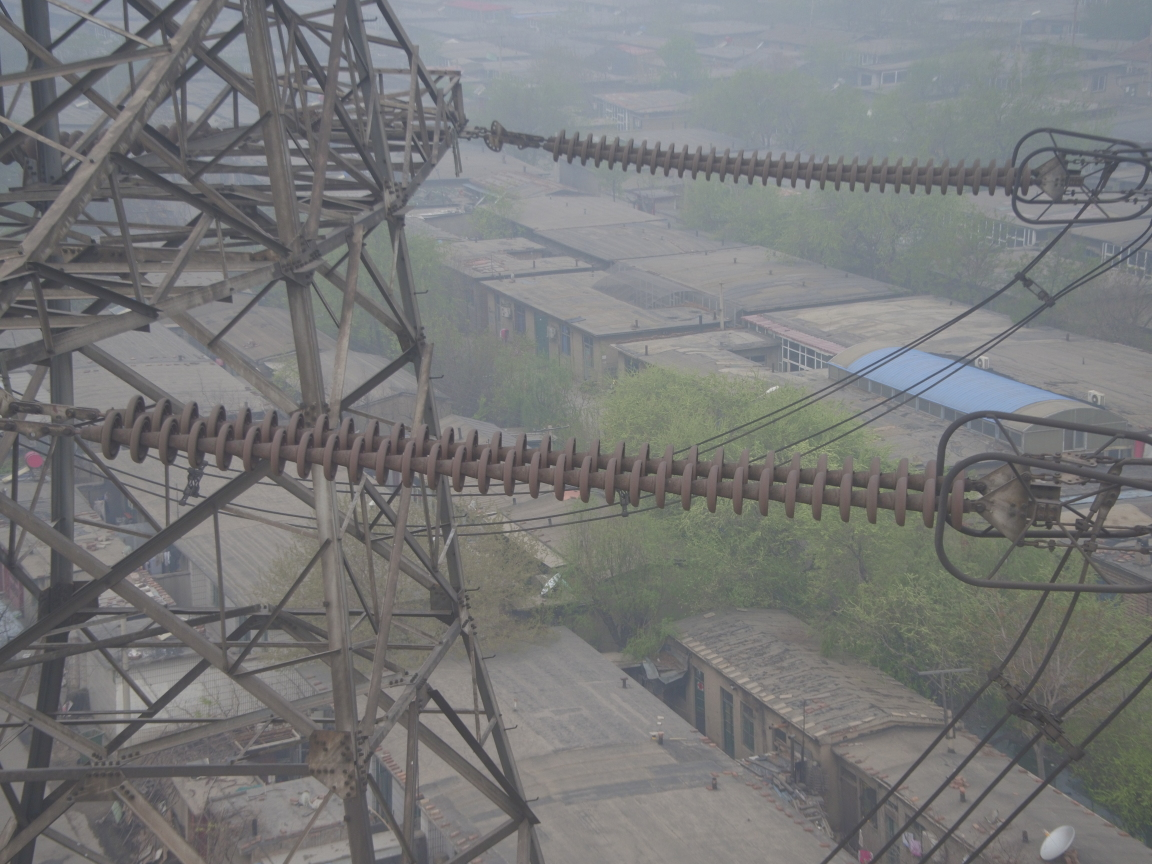insulator: (42, 389, 1009, 537), (528, 124, 1047, 201)
